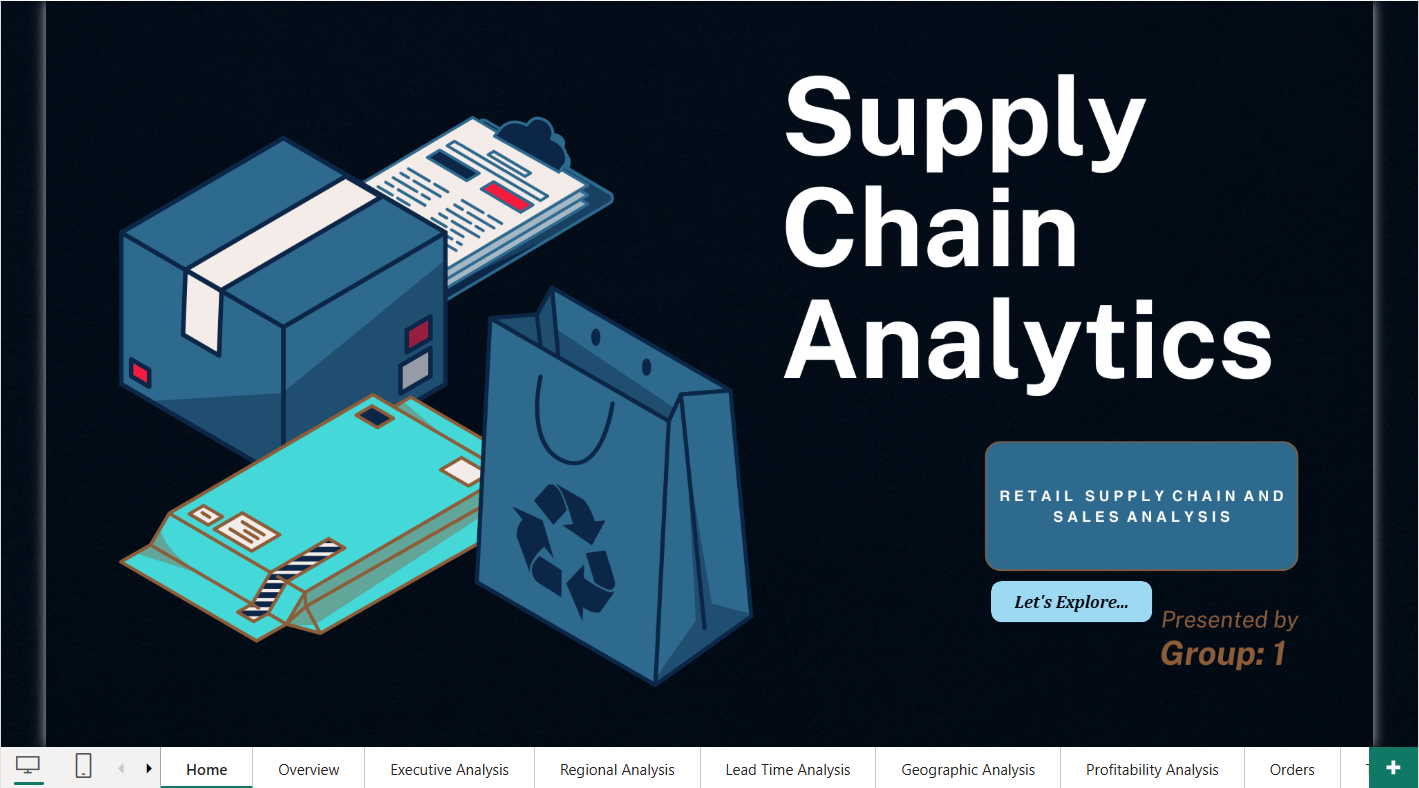

The dashboard page shown, as its layout file describes it:
{"tool":"powerbi","page":{"name":"Home","canvas":[1280,720],"ordinal":0},"visuals":[{"type":"actionButton","box":[912.1,559.8,155.6,39.8],"z":0}]}

Visuals, with their boxes on the page's 1280x720 design canvas (x1, y1, x2, y2). These are canvas units, not pixel positions in the 1419x788 screenshot, which may show the page scaled, cropped or inside an application window:
actionButton: locate(912, 560, 1068, 600)
